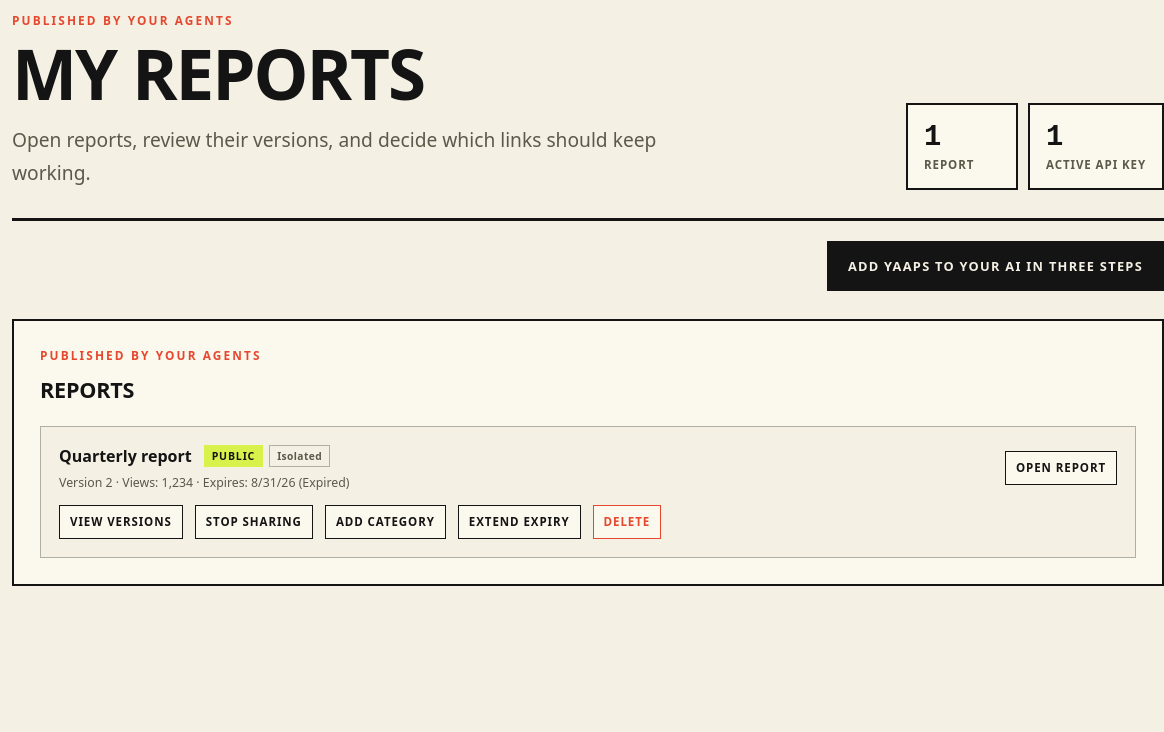
Test case: signed-in management dashboard › loads reports and changes public availability with CSRF
Check: the link "Quarterly report" is shown, box [59,445,192,467]
Click the button "Stop sharing" at [254, 522], box [195,505,313,539]
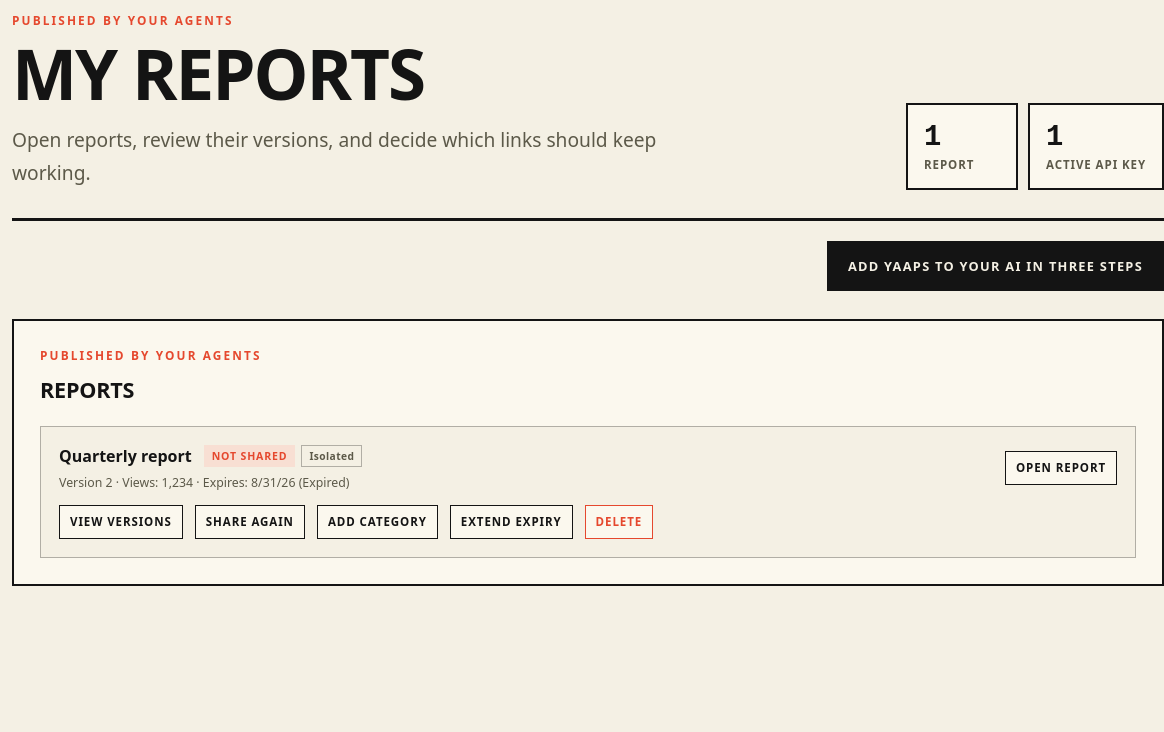
Check: the text "Not shared" is shown, box [204,445,295,467]
